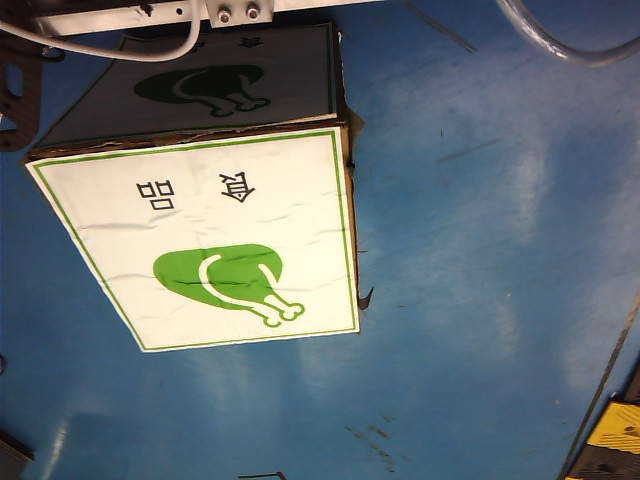Cube_food: (132, 158, 310, 337)
